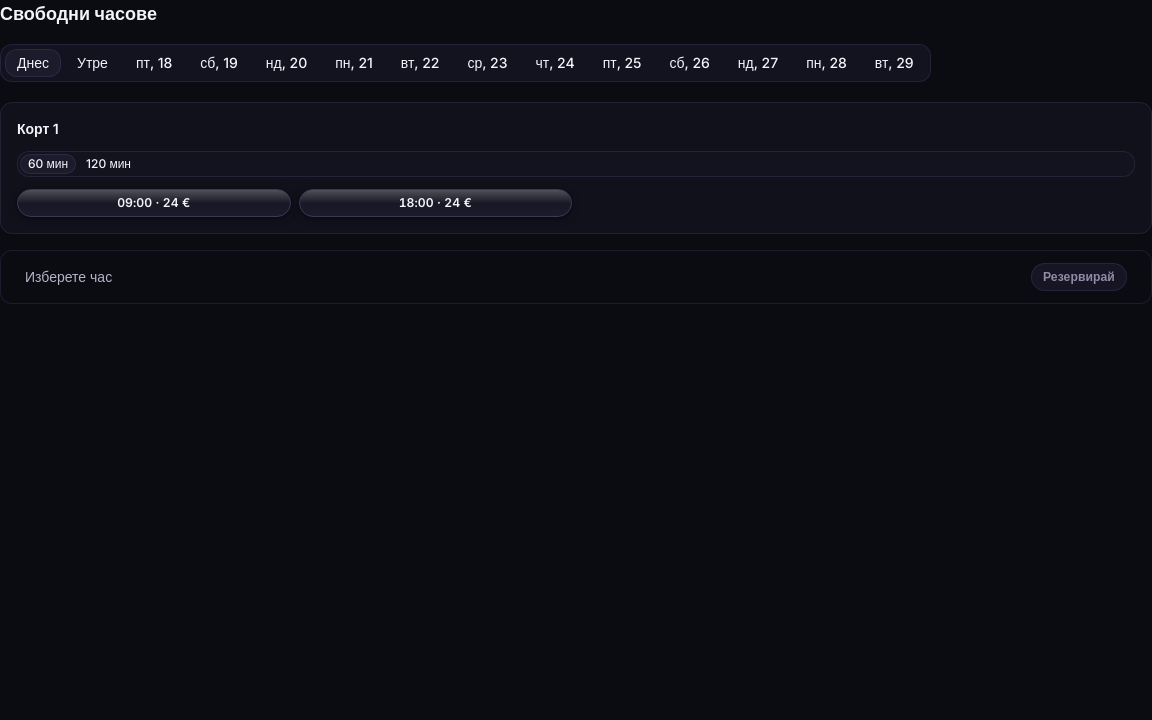
it: the confirmation sheet › 409 SLOT_TAKEN: says so, refreshes the day, and offers another pick
This screenshot has width=1152, height=720.
Click the button "09:00 · 24 €": click(154, 203) [17, 189, 290, 217]
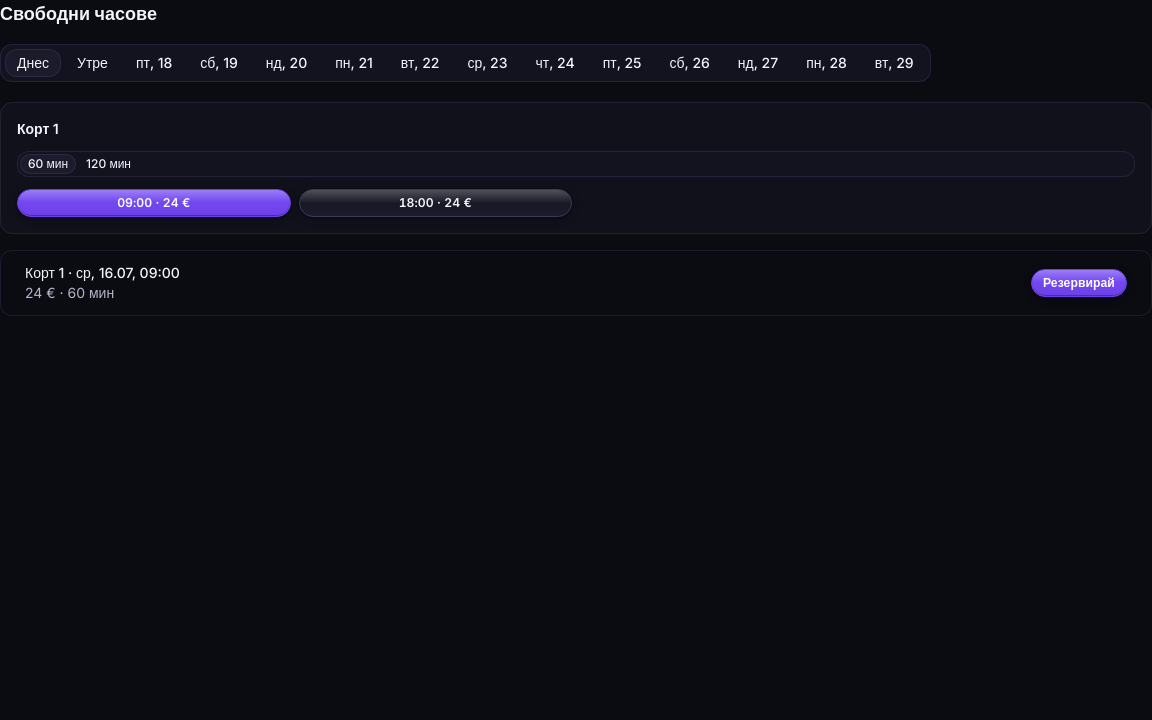
Click the button "Резервирай": click(1079, 283) [1031, 269, 1127, 297]
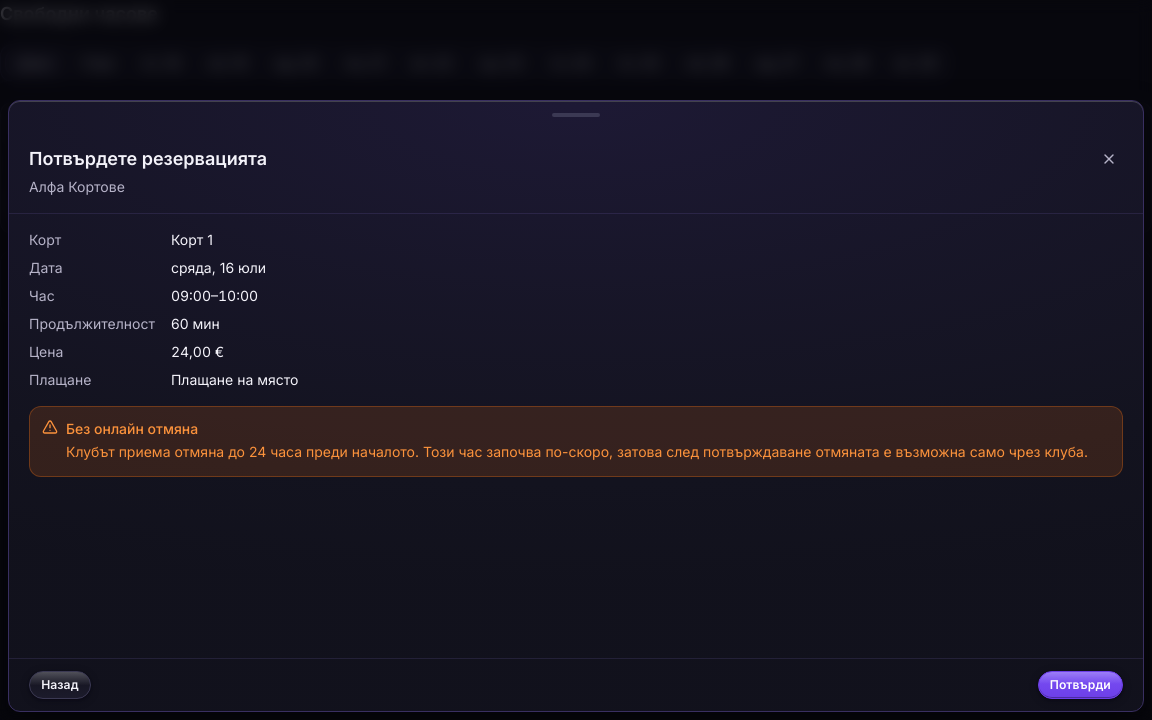
Click the button "Потвърди": click(1080, 685) [1038, 671, 1123, 699]
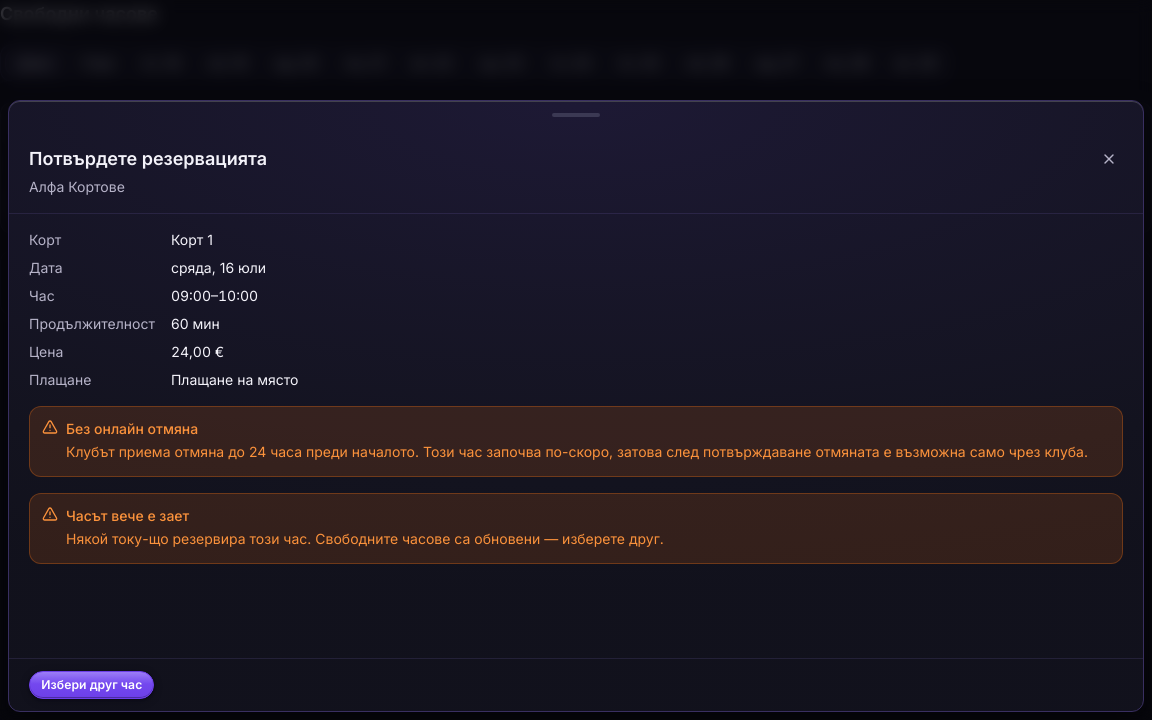
Now the text "Часът вече е зает" is shown, box [66, 507, 189, 524]
Now the button "Потвърди" is gone
Click the button "Избери друг час": click(92, 685) [29, 671, 154, 699]
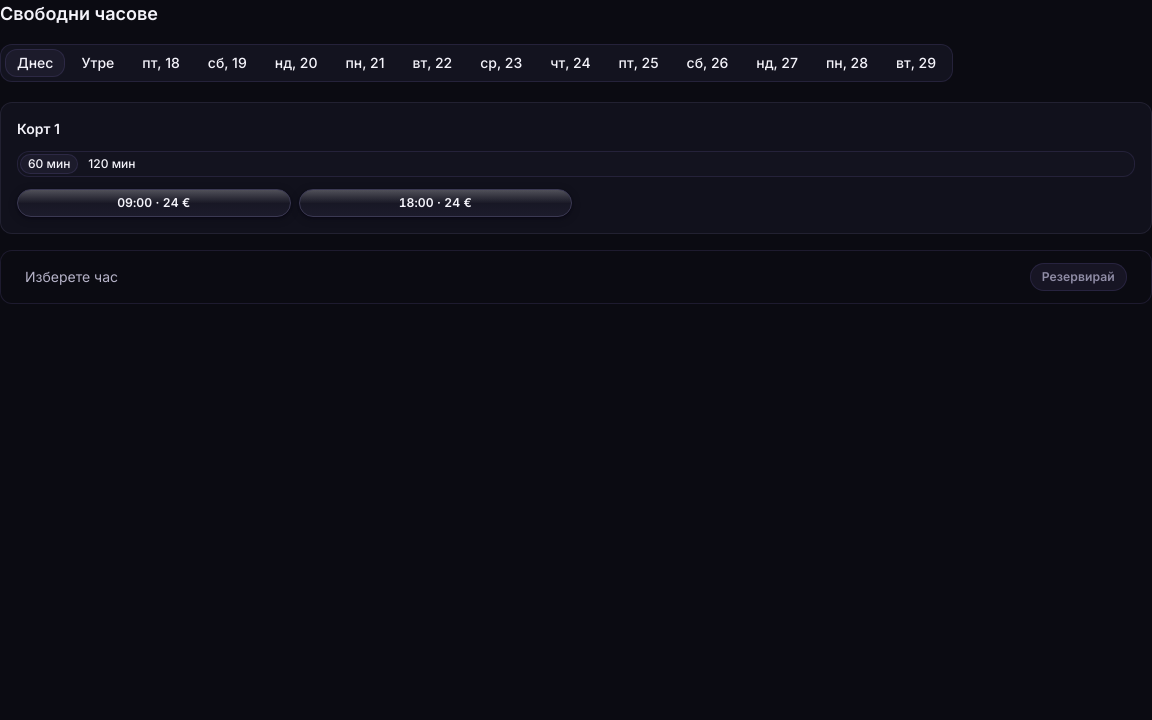
Now the dialog is gone
Now the button "Резервирай" is disabled, box [1030, 263, 1127, 291]
